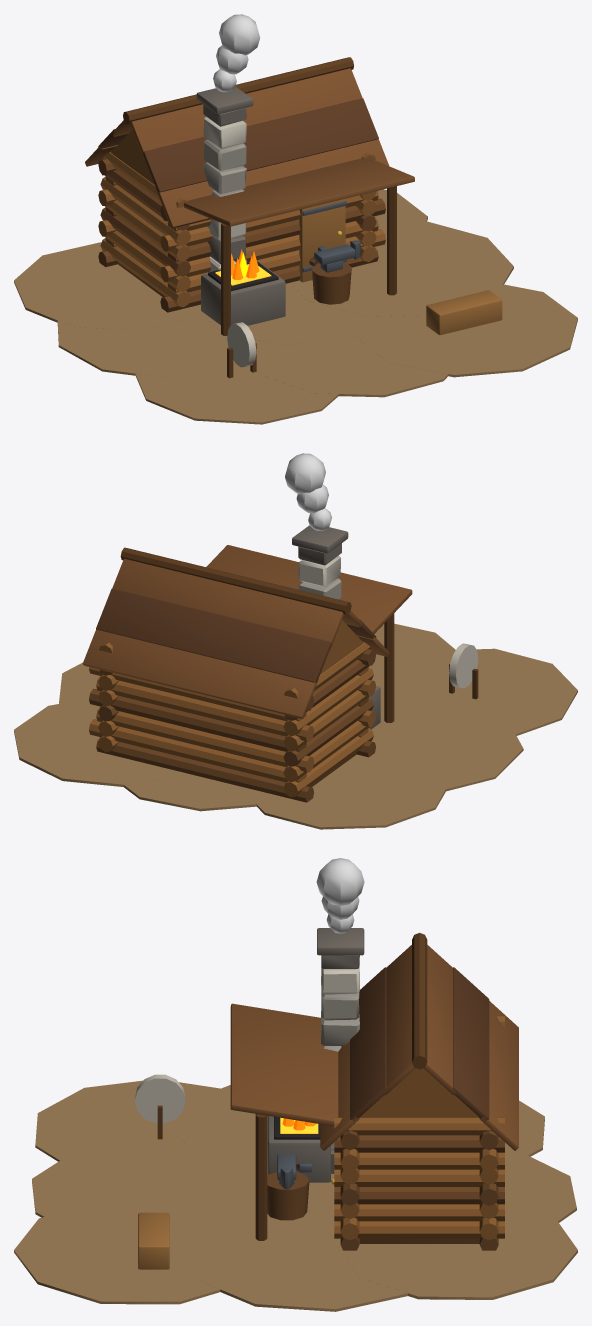
Rendered from kuznia_poz04.glb.
3 views of the same model, one above another, from view 1: azimuth 30°, elevation 25°; view 2: azimuth 150°, elevation 25°; view 3: azimuth 270°, elevation 25° (orthographic). The views are drawn at different scales.
Parts seen in each view (by area): view 1: kuznia_poz04; view 2: kuznia_poz04; view 3: kuznia_poz04.
Boxes of the visible parts, x1,y1,x2,y2 form: kuznia_poz04: [14, 14, 577, 424]; kuznia_poz04: [14, 453, 577, 829]; kuznia_poz04: [14, 858, 577, 1311].
Bounding box in the file's own units: 8.84 × 5.54 × 8.92.
